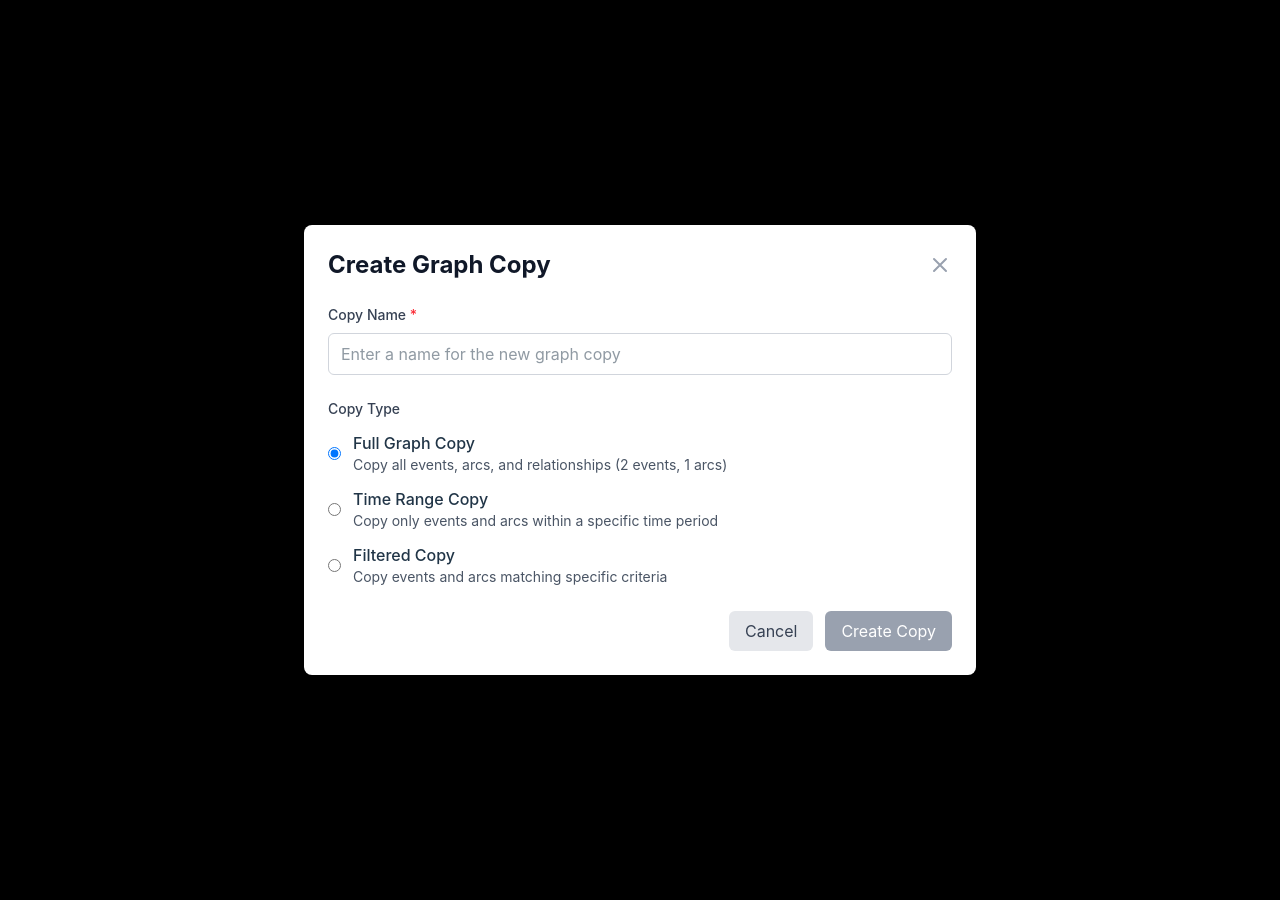
GraphCopyModal › should show time range inputs when time range copy is selected
Click the radio button labelled "Time Range Copy" at (334, 509), box x1=328 y1=502 x2=341 y2=516
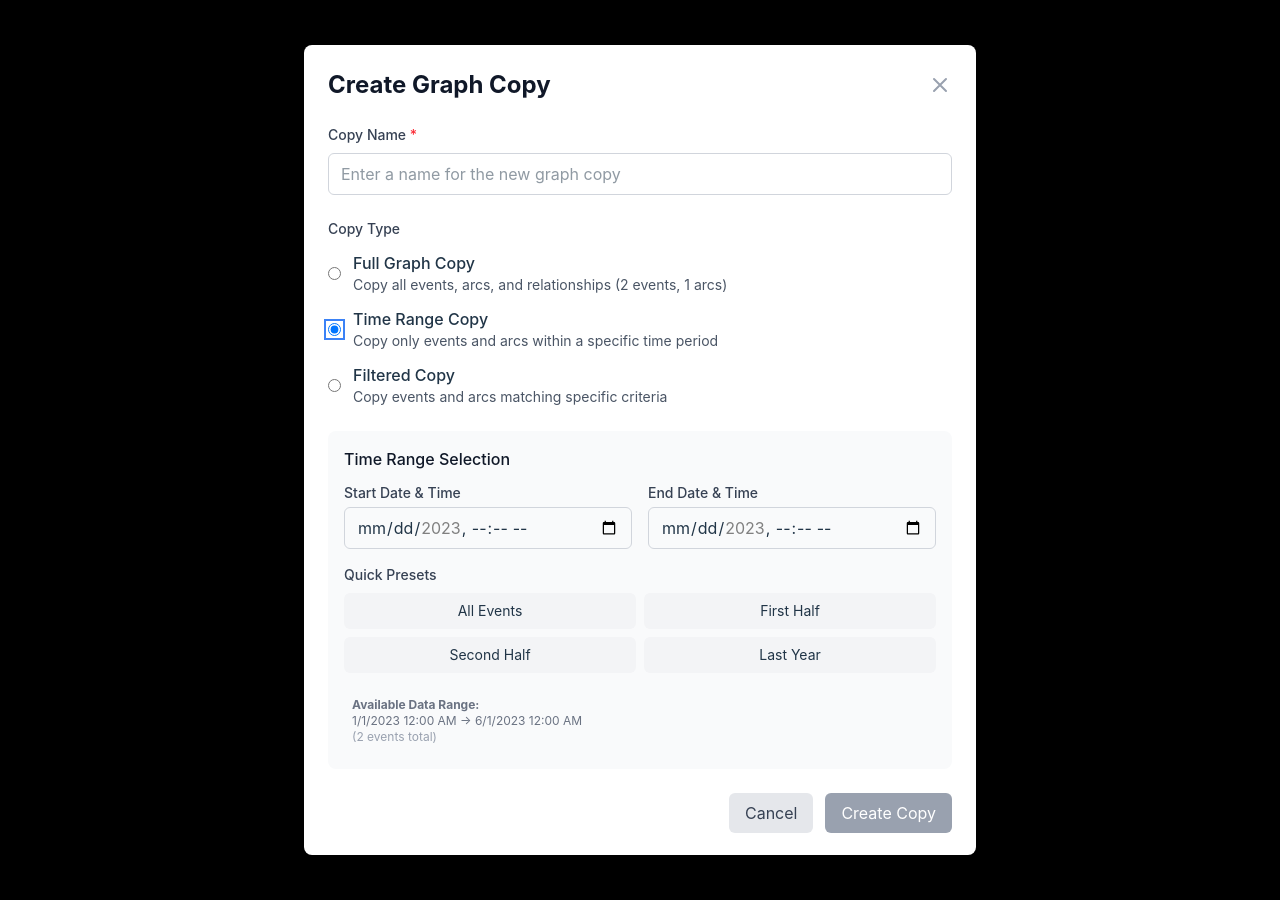
Check: the heading "Time Range Selection" is shown, box x1=344 y1=449 x2=510 y2=469
Check: the field labelled "Start Date & Time" is shown, box x1=344 y1=507 x2=632 y2=549
Check: the field labelled "End Date & Time" is shown, box x1=648 y1=507 x2=936 y2=549
